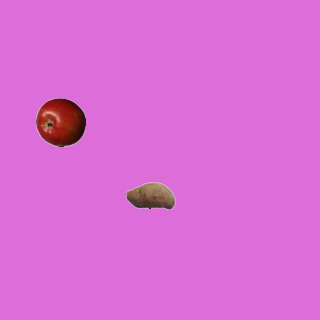Apple Braeburn: (35, 97, 85, 147)
Potato Sweet: (125, 170, 175, 220)
